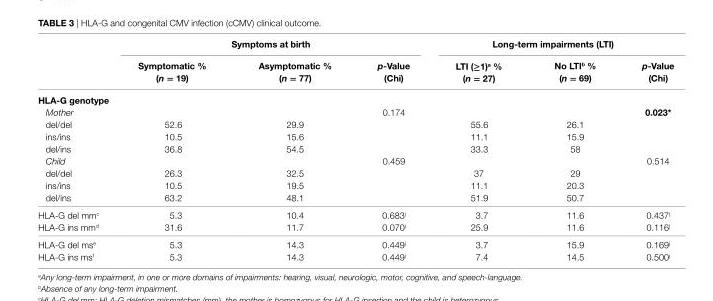table: (37, 37, 673, 261)
table column: (231, 37, 353, 261), (122, 37, 231, 261), (431, 37, 527, 261), (527, 37, 618, 261), (37, 37, 122, 261), (353, 37, 431, 261), (618, 37, 673, 261)
table column header: (37, 37, 673, 89)
table projected row header: (37, 89, 673, 105)
table row: (37, 53, 673, 89), (37, 37, 673, 53), (37, 89, 673, 105), (37, 190, 673, 205), (37, 205, 673, 220), (37, 220, 673, 235), (37, 235, 673, 250), (37, 141, 673, 154), (37, 105, 673, 117), (37, 117, 673, 129), (37, 129, 673, 141), (37, 154, 673, 166), (37, 166, 673, 178), (37, 178, 673, 190), (37, 250, 673, 261)
table spanning cell: (122, 37, 431, 53), (431, 37, 673, 53)
